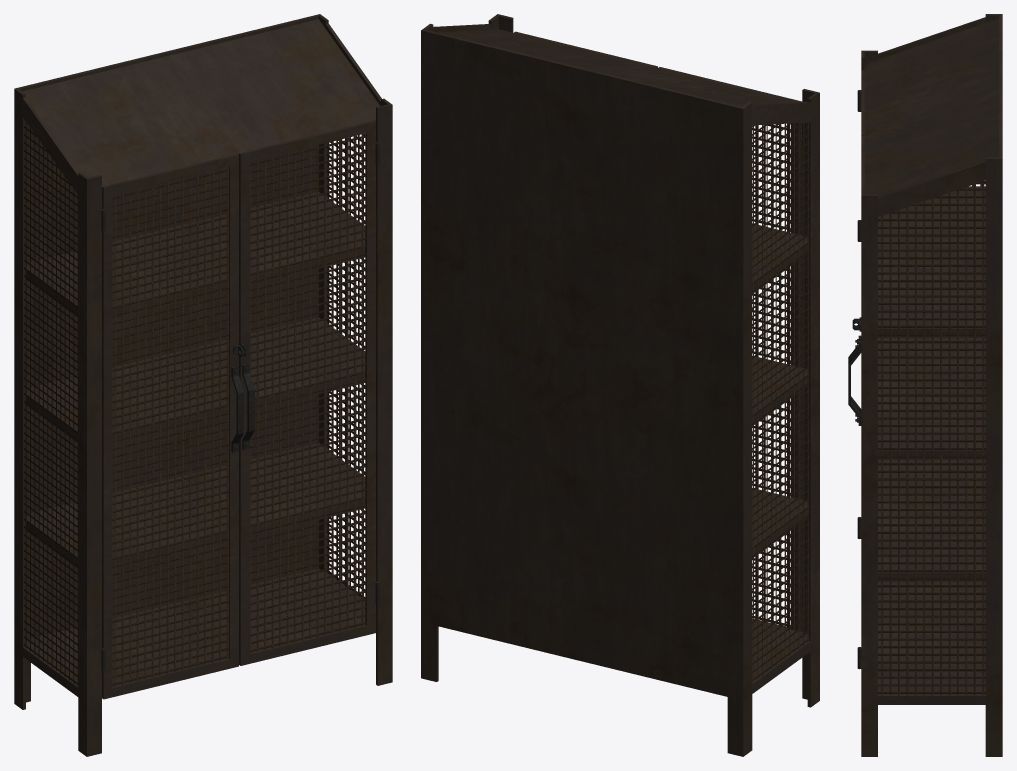
The model's file is shelf_mx_8_2.dae.
3 renders of one model, left to right at view 1: azimuth 30°, elevation 25°; view 2: azimuth 150°, elevation 25°; view 3: azimuth 270°, elevation 25°, orthographic. The views are drawn at different scales.
Visible parts, largest first — view 1: shelf_mx_8_2, shelf_mx_8_2_door_left, shelf_mx_8_2_door_right; view 2: shelf_mx_8_2, shelf_mx_8_2_door_left; view 3: shelf_mx_8_2, shelf_mx_8_2_door_right, shelf_mx_8_2_door_left.
Part boxes in pixels (<box>): shelf_mx_8_2: <box>14,14,392,756</box>; shelf_mx_8_2_door_left: <box>101,154,243,699</box>; shelf_mx_8_2_door_right: <box>239,120,379,665</box>; shelf_mx_8_2: <box>421,14,819,756</box>; shelf_mx_8_2_door_left: <box>658,67,802,631</box>; shelf_mx_8_2: <box>861,14,1002,756</box>; shelf_mx_8_2_door_right: <box>848,135,864,669</box>; shelf_mx_8_2_door_left: <box>848,70,864,538</box>.
Bounding box in the file's own units: 1.02 × 0.458 × 1.96.
Materials: 3 (3 with a texture image).
